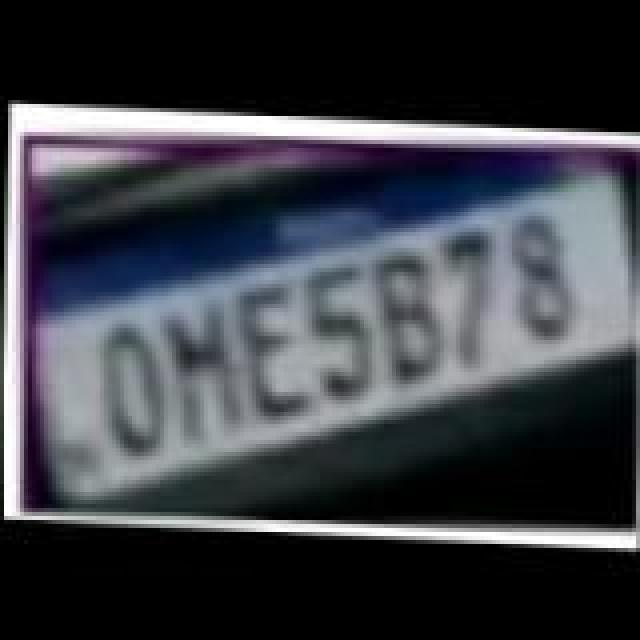5: (296, 260, 380, 404)
7: (434, 224, 510, 368)
8: (504, 212, 584, 344)
B: (368, 248, 452, 384)
E: (232, 278, 316, 422)
M: (158, 302, 250, 446)
O: (92, 322, 172, 462)
